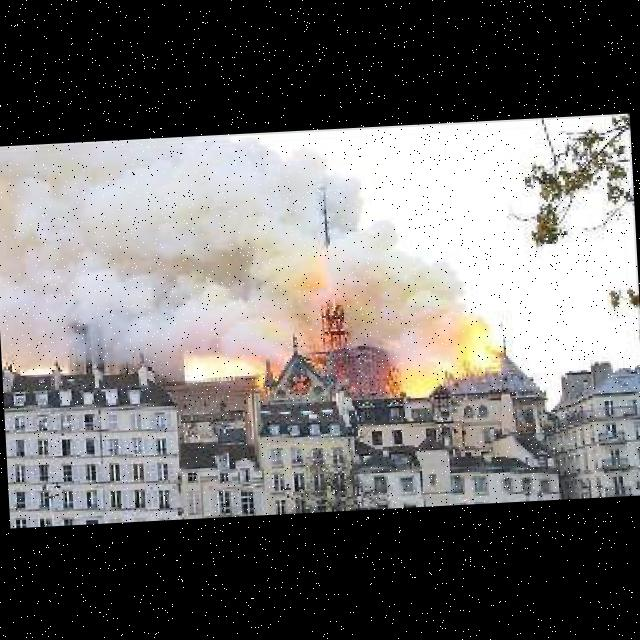fire: (399, 324, 504, 418)
